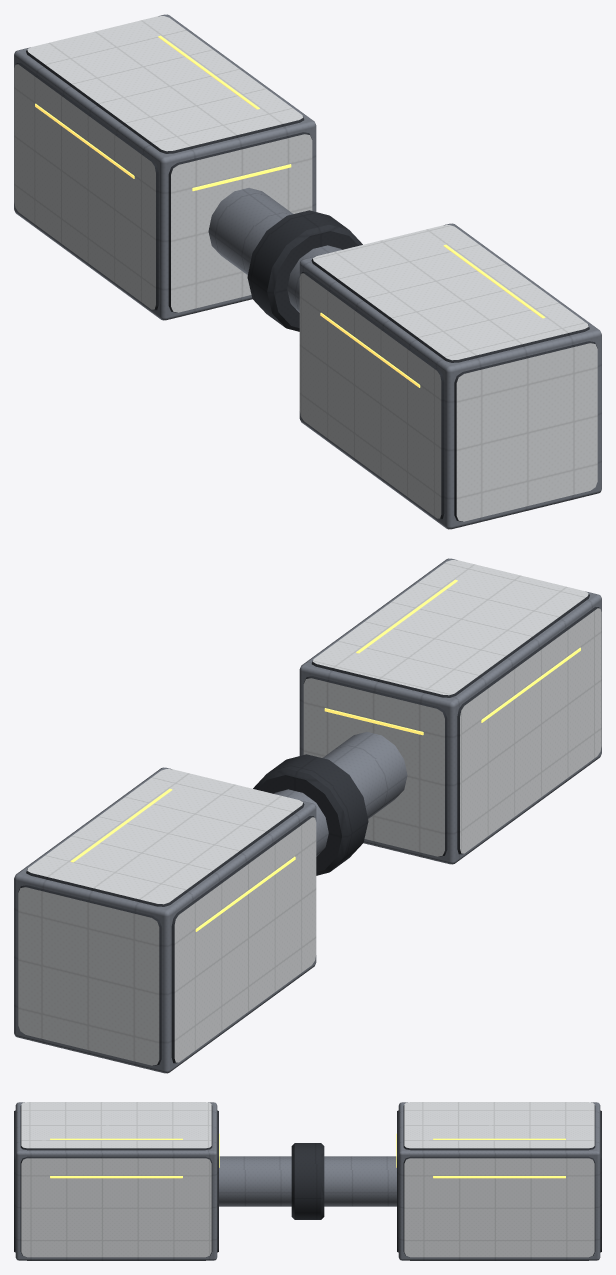
The model's file is R4C_ROD_SHORT.glb.
3 views of the same model, one above another, from view 1: azimuth 30°, elevation 25°; view 2: azimuth 150°, elevation 25°; view 3: azimuth 270°, elevation 25° (orthographic). The views are drawn at different scales.
Parts seen in each view (by area): view 1: R4C_ROD_SHORT; view 2: R4C_ROD_SHORT; view 3: R4C_ROD_SHORT.
Boxes of the visible parts, box(x1,y1,x2,y2) form: R4C_ROD_SHORT: box(14, 14, 601, 529); R4C_ROD_SHORT: box(14, 558, 601, 1073); R4C_ROD_SHORT: box(14, 1102, 601, 1260).
Bounding box in the file's own units: 0.2284 × 0.2284 × 1.07.
Materials: 4 (3 with a texture image).
